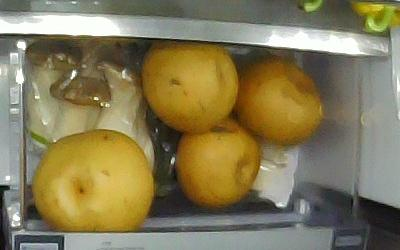pear: (33, 130, 154, 231), (141, 42, 239, 133), (236, 56, 325, 146), (176, 119, 262, 207)
